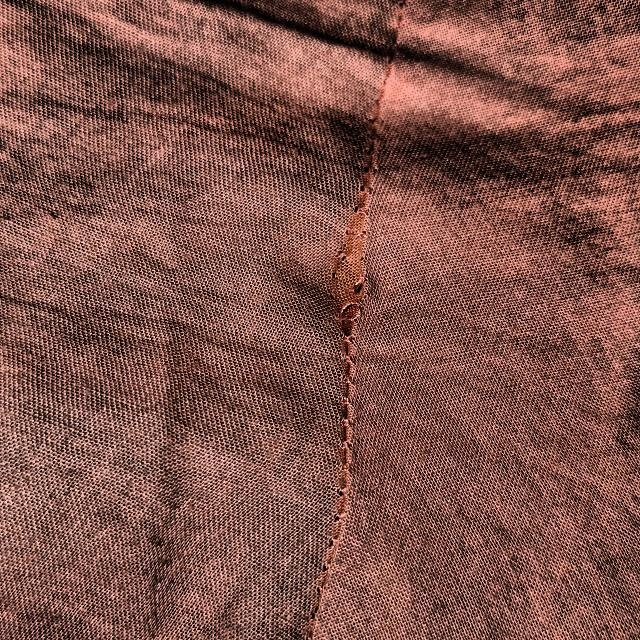seam: (275, 86, 432, 384)
